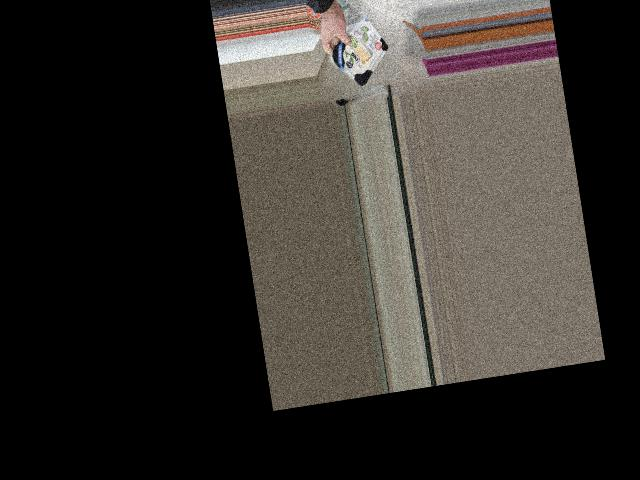cheese: (312, 23, 395, 83)
